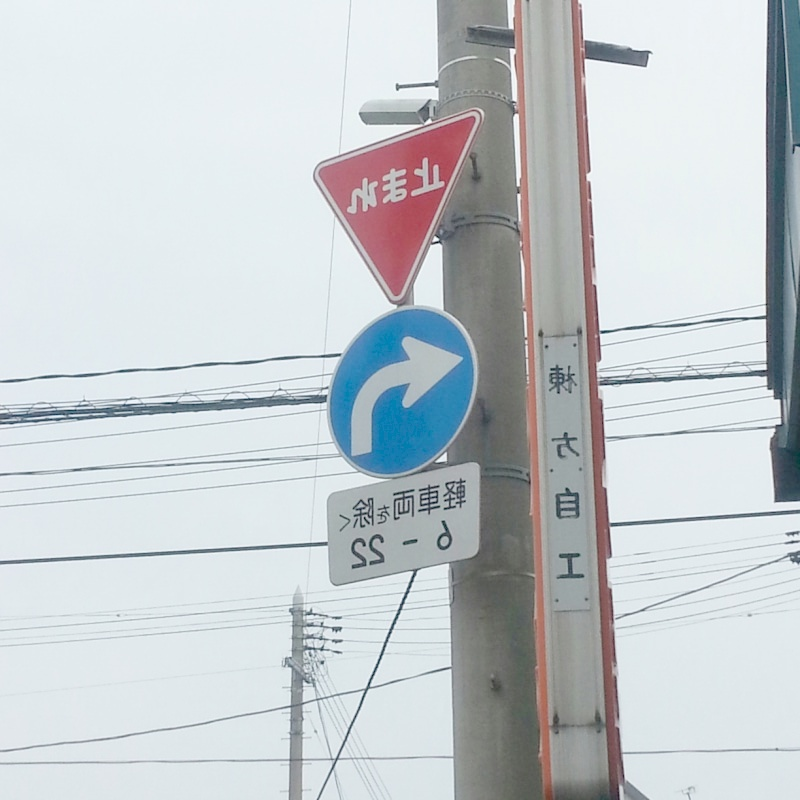Direction_sign: (308, 299, 504, 485)
